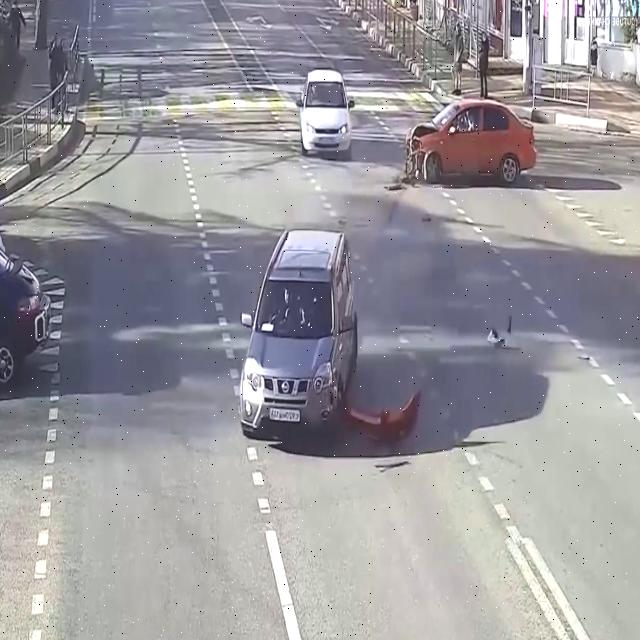accident: (225, 218, 426, 478), (381, 84, 542, 202)
